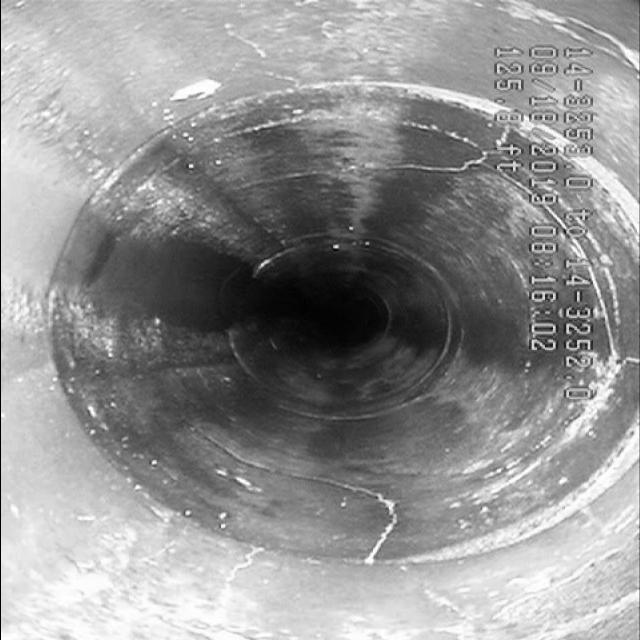Crack: (212, 432, 408, 562), (225, 125, 478, 215)
